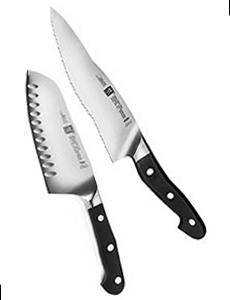knife: (48, 7, 207, 239), (26, 69, 125, 295)
